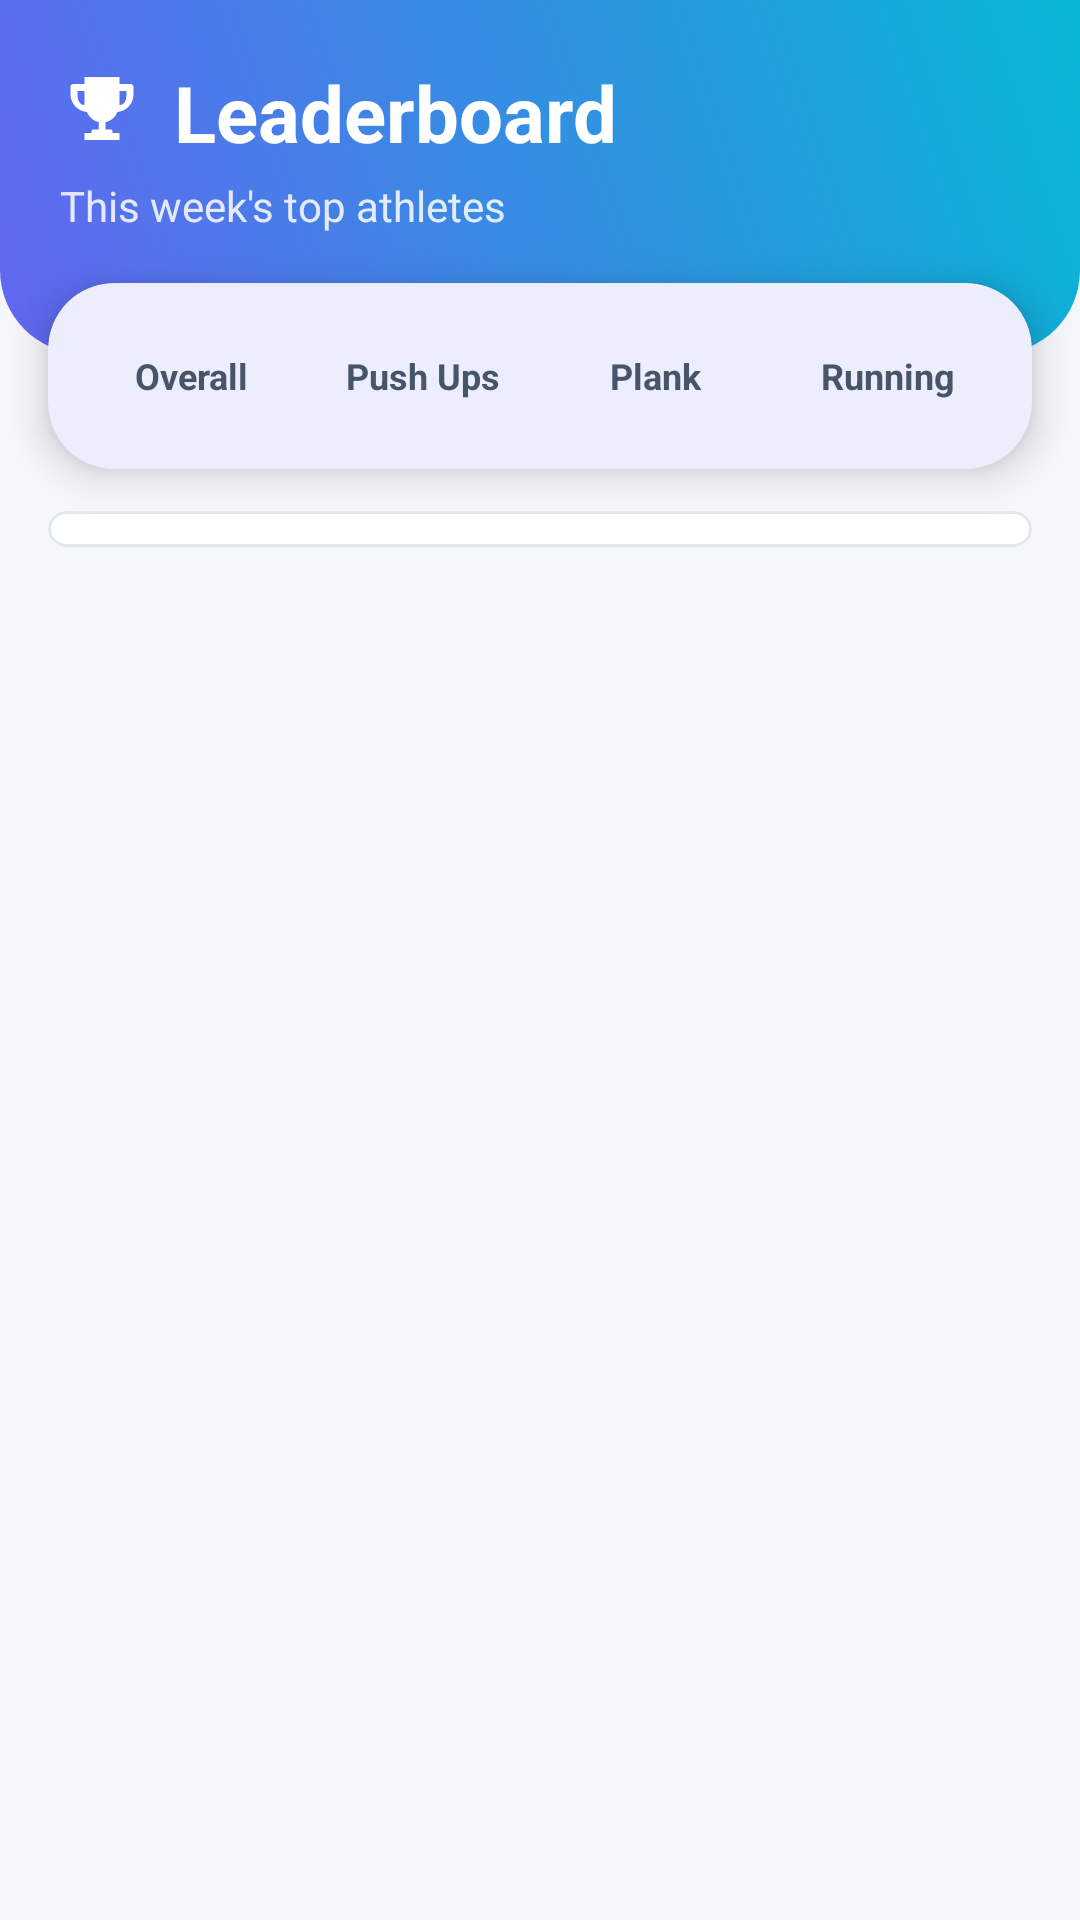

Named icons in this screenshot (1080px x 1920px) and their bounding boxes, Rect(x1, y1, x2, y2):
trophy: Rect(70, 77, 134, 140)
